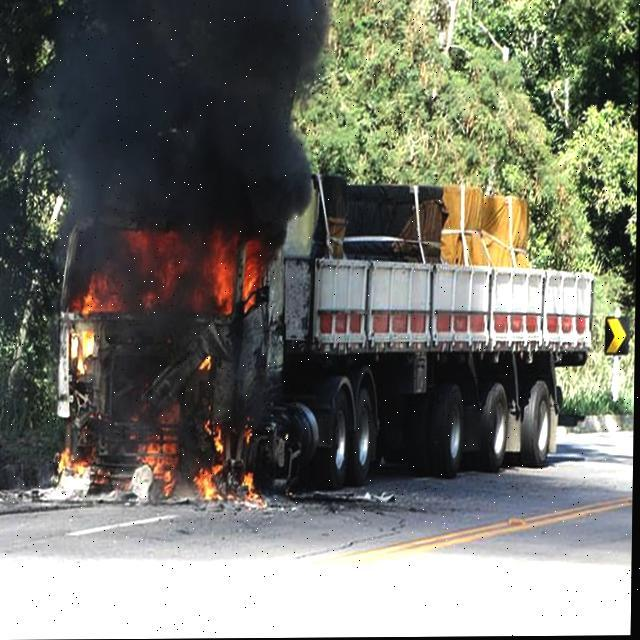Fire: (65, 224, 262, 320), (131, 404, 181, 496), (48, 440, 100, 477), (191, 464, 223, 502), (243, 468, 262, 506), (206, 422, 227, 456)
